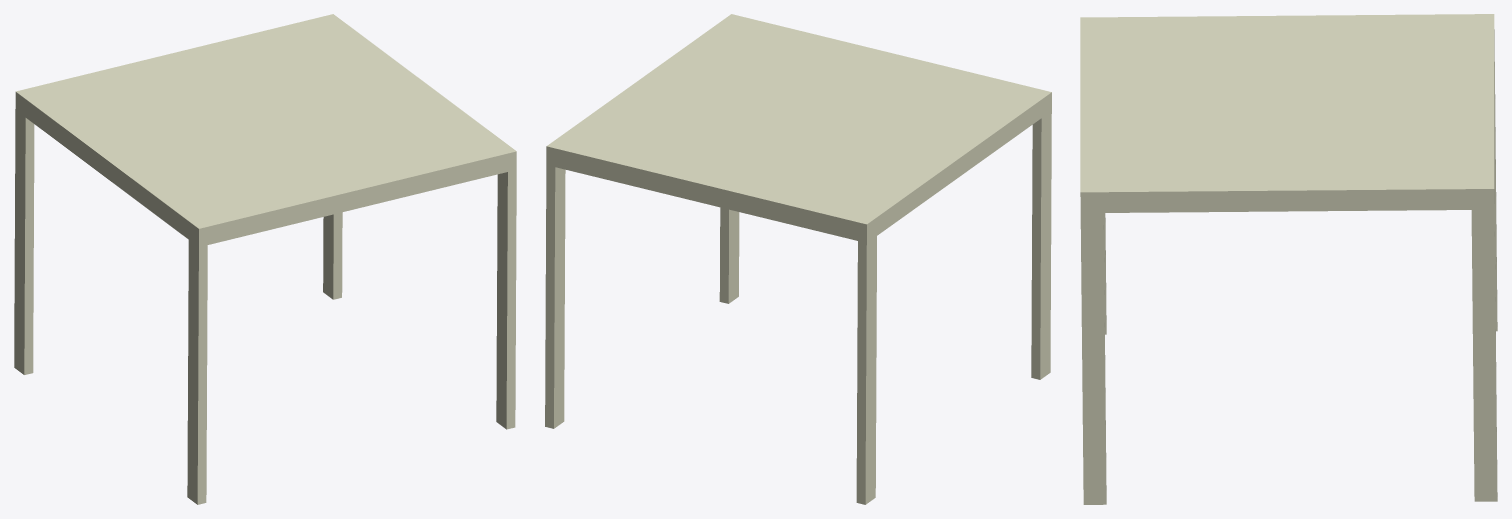
File: cat7_table.obj
3 views of the same model, side by side, from view 1: azimuth 30°, elevation 25°; view 2: azimuth 150°, elevation 25°; view 3: azimuth 270°, elevation 25° (orthographic). The views are drawn at different scales.
Parts seen in each view (by area): view 1: cat7_table; view 2: cat7_table; view 3: cat7_table.
Boxes of the visible parts, bbox=[...] form: cat7_table: bbox=[14, 14, 516, 504]; cat7_table: bbox=[545, 14, 1051, 504]; cat7_table: bbox=[1080, 14, 1497, 504].
Bounding box in the file's own units: 36 × 30.33 × 36.28.
